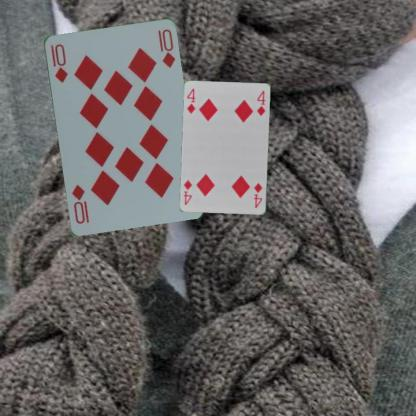10d: (47, 41, 69, 84)
4d: (184, 86, 196, 115), (252, 180, 263, 209)
